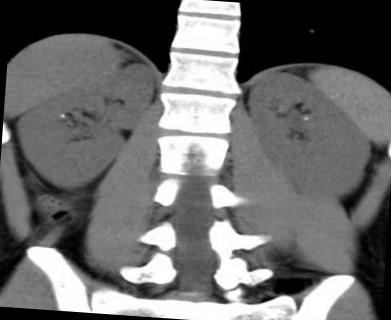Tas_Var: (58, 112, 64, 120), (302, 116, 308, 122)
